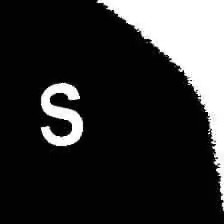LTR_S: (33, 77, 89, 148)
